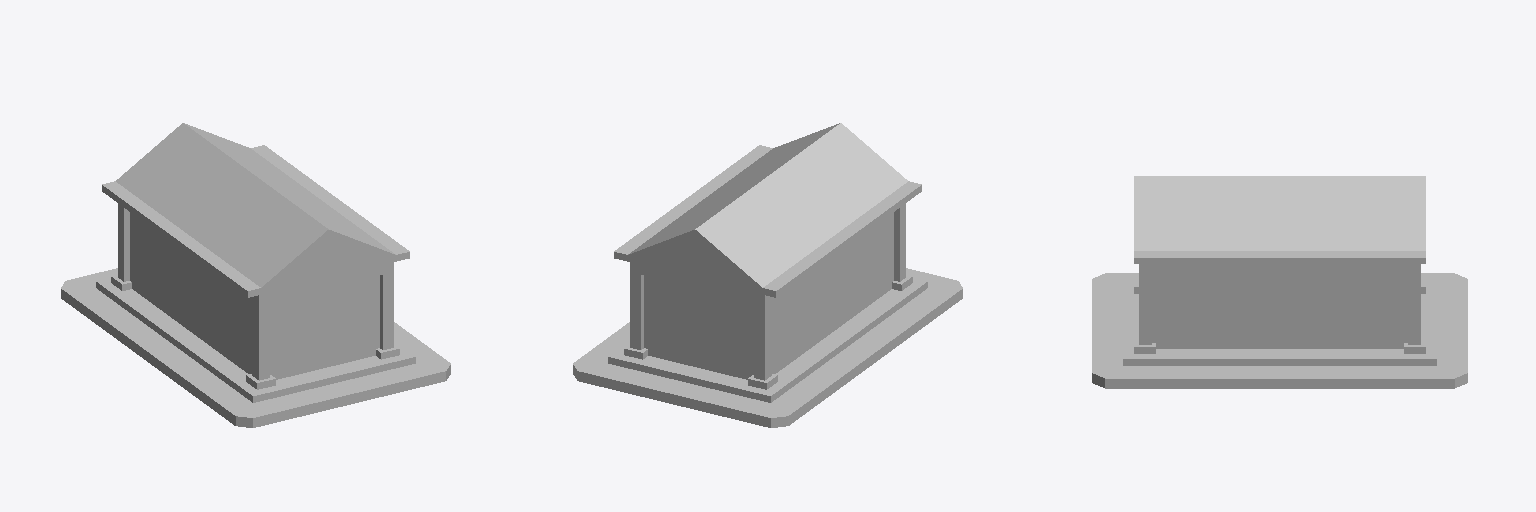
The model's file is crypt.obj.
3 views of the same model, side by side, from view 1: azimuth 30°, elevation 25°; view 2: azimuth 150°, elevation 25°; view 3: azimuth 270°, elevation 25° (orthographic).
Parts seen in each view (by area): view 1: crypt; view 2: crypt; view 3: crypt.
Boxes of the visible parts, box(x1,y1,x2,y2) form: crypt: box(61, 123, 450, 427); crypt: box(573, 123, 962, 427); crypt: box(1092, 176, 1467, 388).
Bounding box in the file's own units: 0.7504 × 0.532 × 1.13.